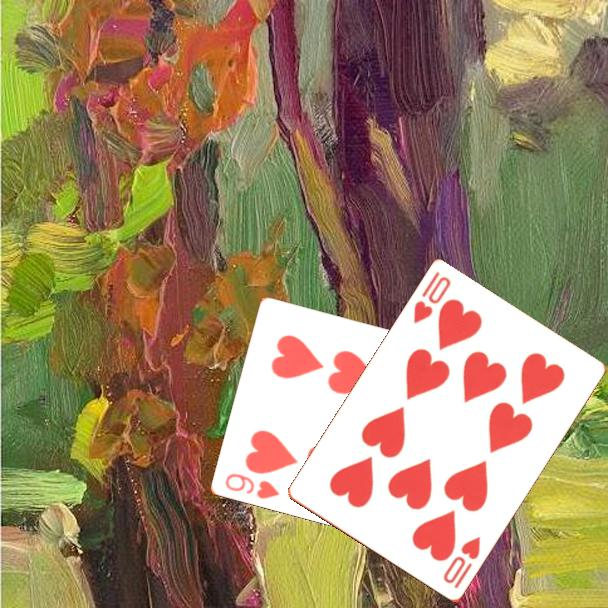h09: (222, 470, 283, 502)
h10: (439, 533, 484, 592), (410, 268, 454, 327)
